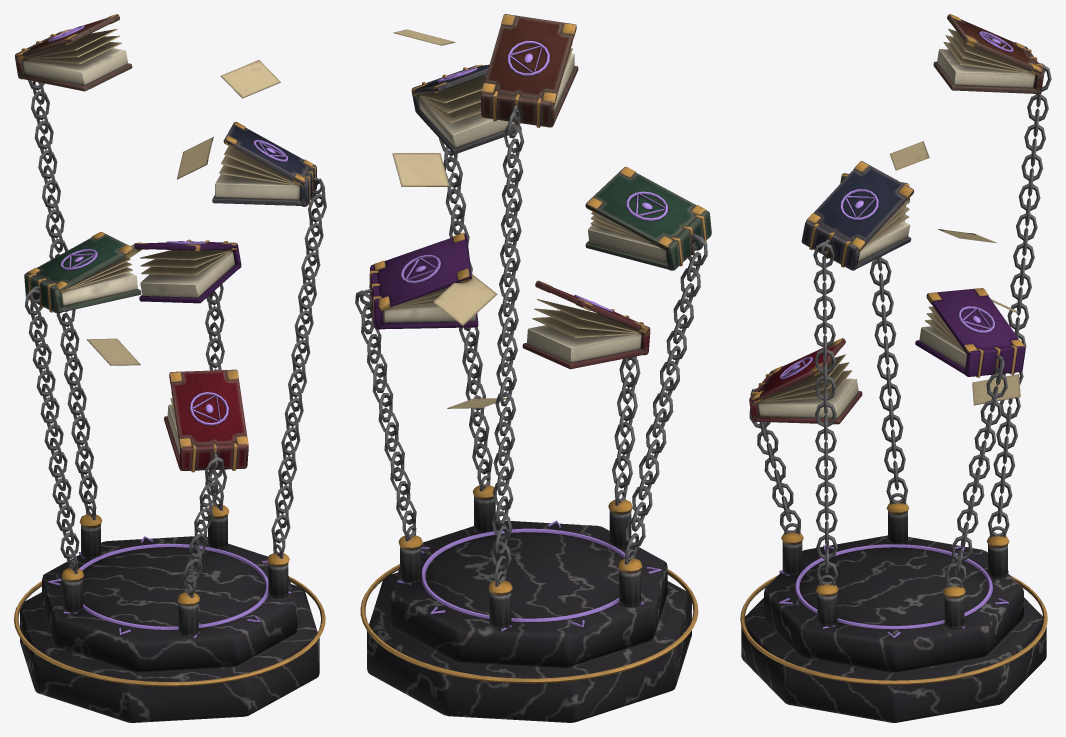
The model's file is TetheredGrimoires.fbx.
The picture shows the model from 3 angles, left to right: view 1: azimuth 30°, elevation 25°; view 2: azimuth 150°, elevation 25°; view 3: azimuth 270°, elevation 25°; orthographic projection. The views are drawn at different scales.
Parts seen in each view (by area): view 1: TetheredGrimoires_Main, TetheredGrimoires_Glow; view 2: TetheredGrimoires_Main, TetheredGrimoires_Glow; view 3: TetheredGrimoires_Main, TetheredGrimoires_Glow.
Part boxes in pixels (left/top/right/bottom): TetheredGrimoires_Main: left=14, top=14, right=326, bottom=722; TetheredGrimoires_Glow: left=48, top=25, right=291, bottom=638; TetheredGrimoires_Main: left=355, top=14, right=711, bottom=722; TetheredGrimoires_Glow: left=397, top=41, right=667, bottom=631; TetheredGrimoires_Main: left=740, top=14, right=1051, bottom=722; TetheredGrimoires_Glow: left=779, top=31, right=1013, bottom=638.
Size of the model in its own units: 290 by 596 by 273.
